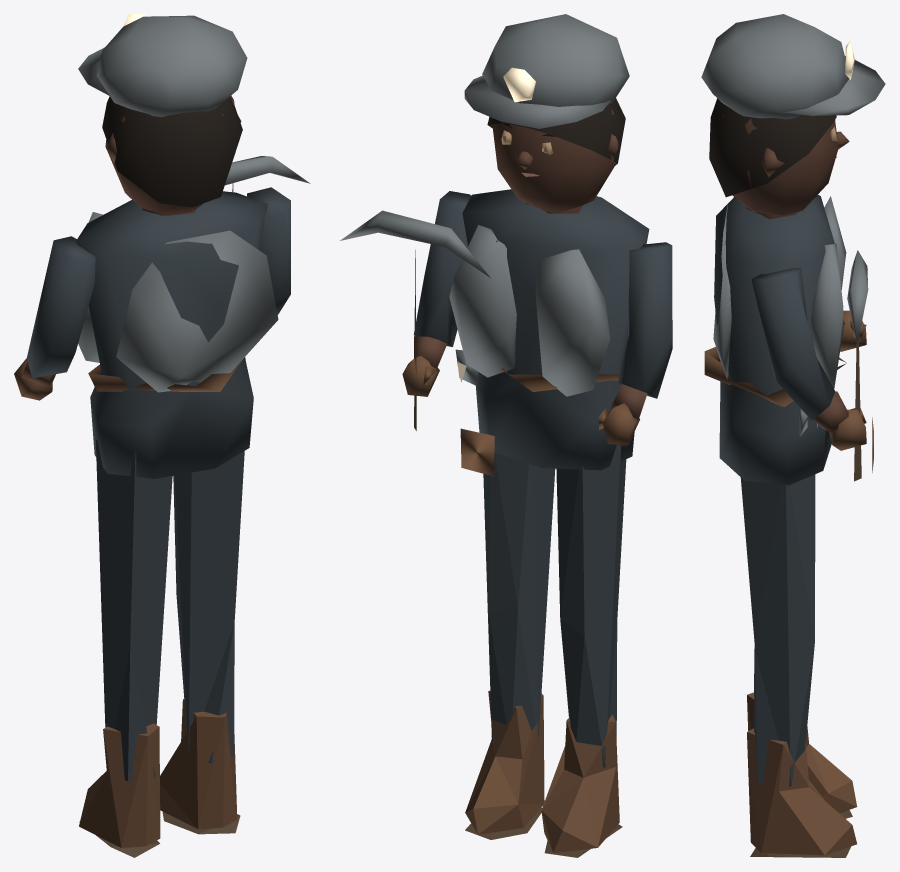
File: SM_NPC_PEDRO_BAJA.glb
3 renders of one model, left to right at view 1: azimuth 30°, elevation 25°; view 2: azimuth 150°, elevation 25°; view 3: azimuth 270°, elevation 25°, orthographic. The views are drawn at different scales.
Visible parts, largest first — view 1: SM_NPC_PEDRO_BODY, SM_NPC_PEDRO_HEAD, SM_NPC_PEDRO_ARMS; view 2: SM_NPC_PEDRO_BODY, SM_NPC_PEDRO_HEAD, SM_NPC_PEDRO_ARMS; view 3: SM_NPC_PEDRO_BODY, SM_NPC_PEDRO_HEAD, SM_NPC_PEDRO_ARMS.
Boxes of the visible parts, x1,y1,x2,y2 form: SM_NPC_PEDRO_BODY: (76, 191, 278, 857); SM_NPC_PEDRO_HEAD: (78, 14, 247, 213); SM_NPC_PEDRO_ARMS: (14, 156, 310, 400); SM_NPC_PEDRO_BODY: (449, 189, 649, 857); SM_NPC_PEDRO_HEAD: (464, 14, 629, 212); SM_NPC_PEDRO_ARMS: (340, 191, 672, 445); SM_NPC_PEDRO_BODY: (704, 195, 873, 857); SM_NPC_PEDRO_HEAD: (701, 14, 885, 216); SM_NPC_PEDRO_ARMS: (751, 250, 868, 481).
Size of the model in its own units: 0.7359 by 1.87 by 0.3865.
